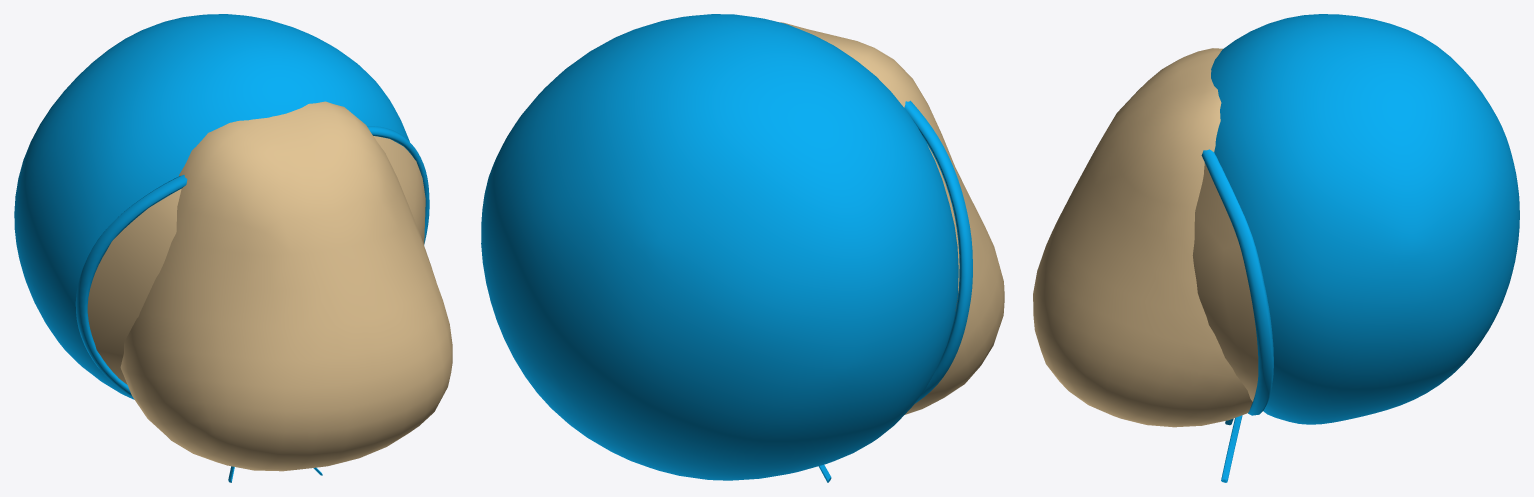
The model's file is SM_PJ_Partes.fbx.
3 views of the same model, side by side, from view 1: azimuth 30°, elevation 25°; view 2: azimuth 150°, elevation 25°; view 3: azimuth 270°, elevation 25° (orthographic). The views are drawn at different scales.
Visible parts, largest first — view 1: SM_Body, SM_Head; view 2: SM_Head, SM_Body; view 3: SM_Head, SM_Body.
Boxes of the visible parts, x1,y1,x2,y2 form: SM_Body: (120,101,452,471); SM_Head: (14,14,429,482); SM_Head: (481,14,972,482); SM_Body: (780,22,1004,414); SM_Head: (1192,14,1519,482); SM_Body: (1033,48,1252,427).
Size of the model in its own units: 51.77 by 57.46 by 59.75.
